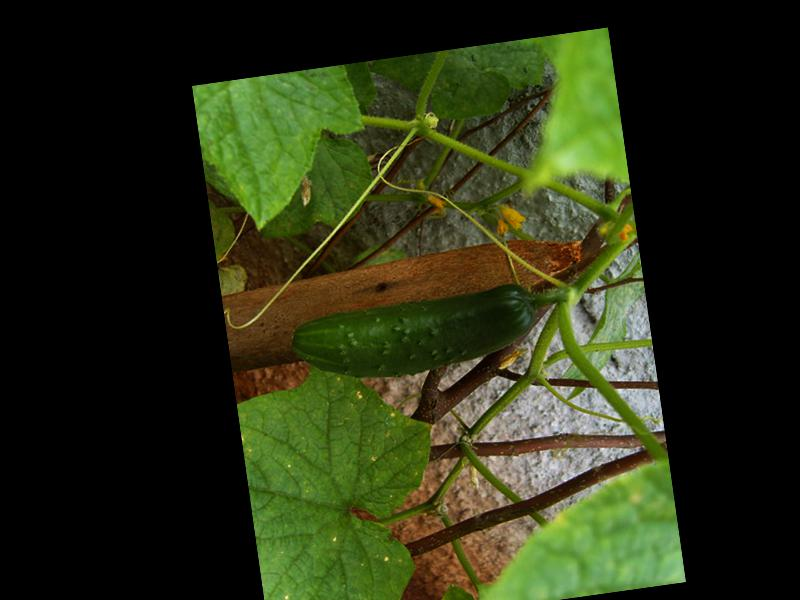Cucumber: (287, 279, 544, 390)
